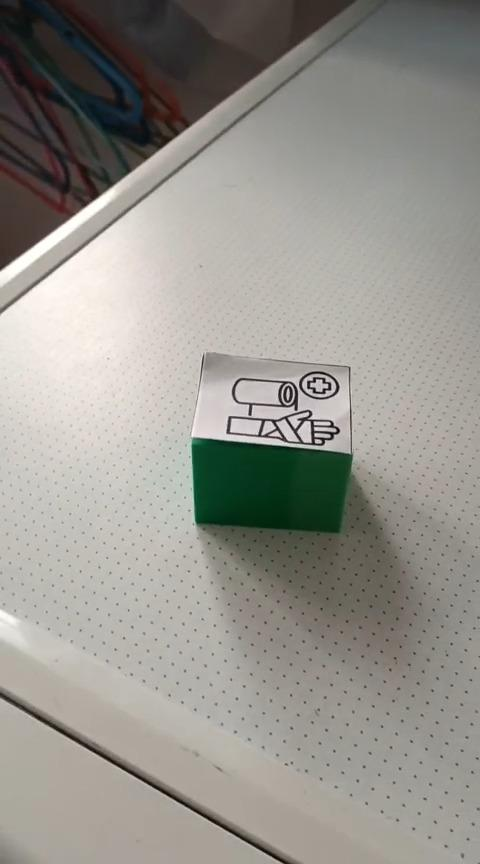Bandages: (189, 350, 354, 536)
